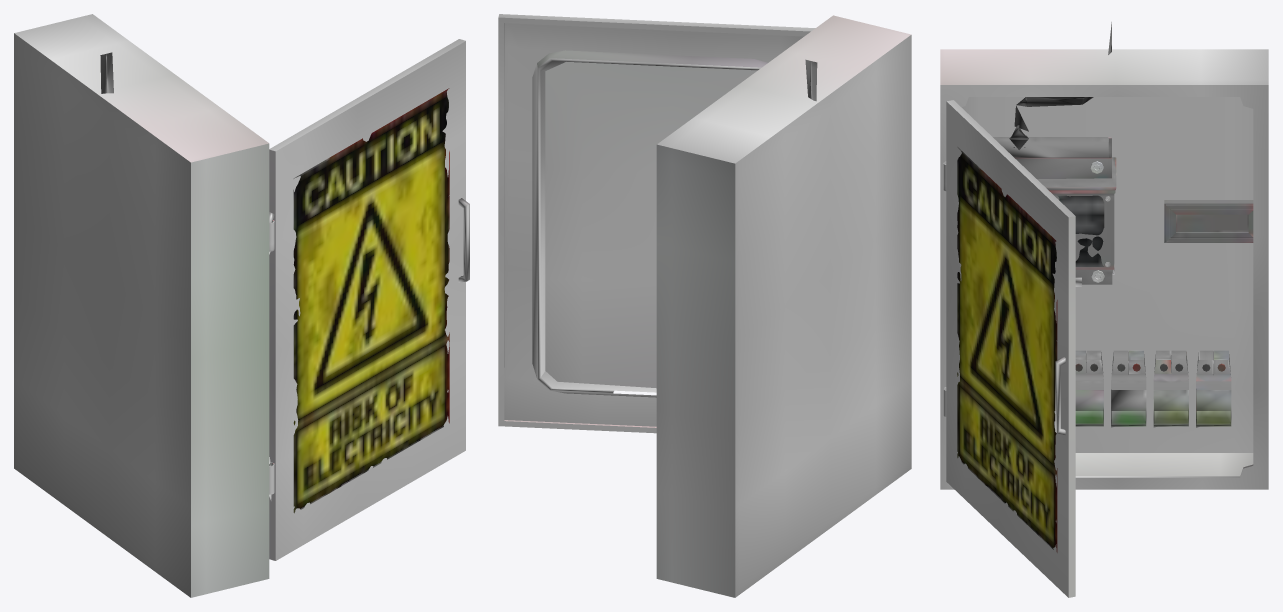
File: electrical-box-small.gltf
3 renders of one model, left to right at view 1: azimuth 30°, elevation 25°; view 2: azimuth 150°, elevation 25°; view 3: azimuth 270°, elevation 25°, orthographic. The views are drawn at different scales.
Parts seen in each view (by area): view 1: Sketchfab_model; view 2: Sketchfab_model; view 3: Sketchfab_model.
Boxes of the visible parts, box(x1,y1,x2,y2) form: Sketchfab_model: box(14, 14, 469, 597); Sketchfab_model: box(498, 14, 911, 597); Sketchfab_model: box(940, 22, 1268, 597).
Size of the model in its own units: 0.3875 by 0.5104 by 0.3447.
1 material, 1 textured.
